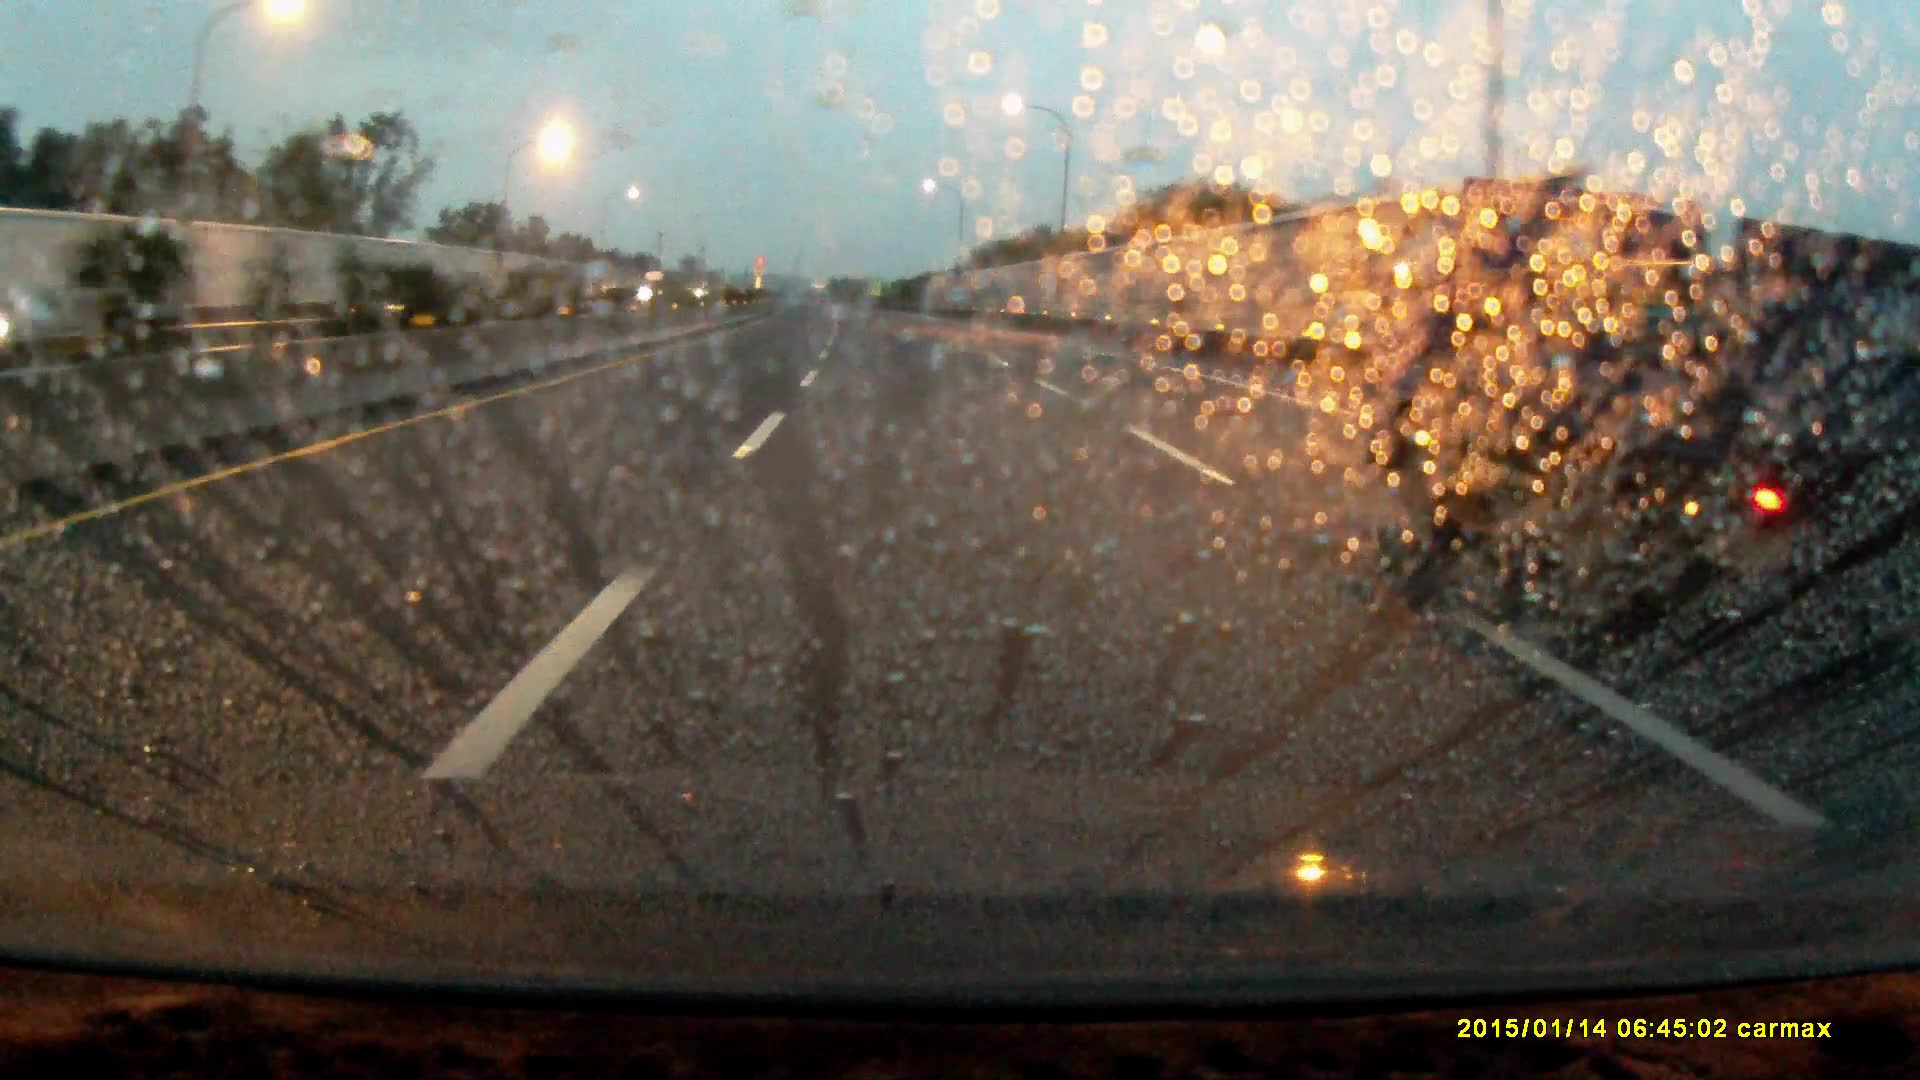vehicle: (1346, 181, 1920, 622), (363, 266, 462, 328), (645, 270, 670, 301)
